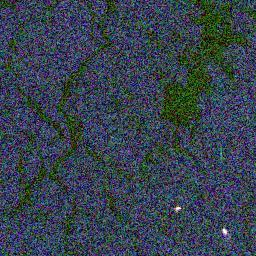Ship: (218, 224, 233, 237), (172, 201, 181, 215)
